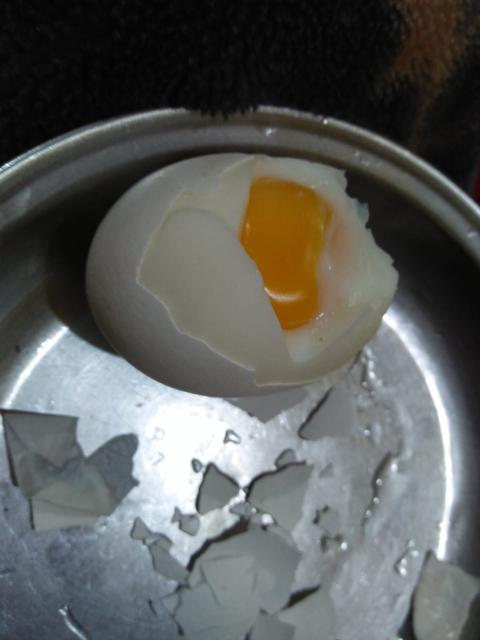Roto: (87, 152, 397, 394)
